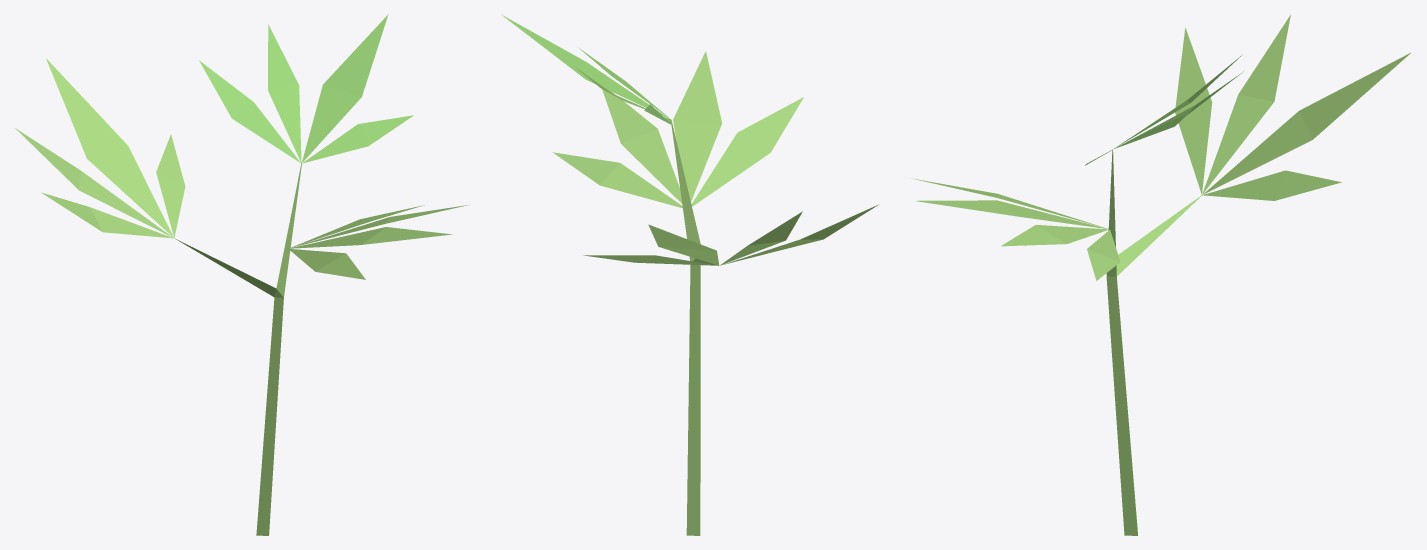
Rendered from Plant_i_OneS_07.fbx.
3 renders of one model, left to right at view 1: azimuth 30°, elevation 25°; view 2: azimuth 150°, elevation 25°; view 3: azimuth 270°, elevation 25°, orthographic. The views are drawn at different scales.
Parts seen in each view (by area): view 1: Plant_i_OneS_07; view 2: Plant_i_OneS_07; view 3: Plant_i_OneS_07.
Boxes of the visible parts, x1,y1,x2,y2 form: Plant_i_OneS_07: (15, 14, 469, 535); Plant_i_OneS_07: (501, 14, 879, 535); Plant_i_OneS_07: (913, 14, 1411, 535).
Size of the model in its own units: 0.3964 by 0.5017 by 0.456.
